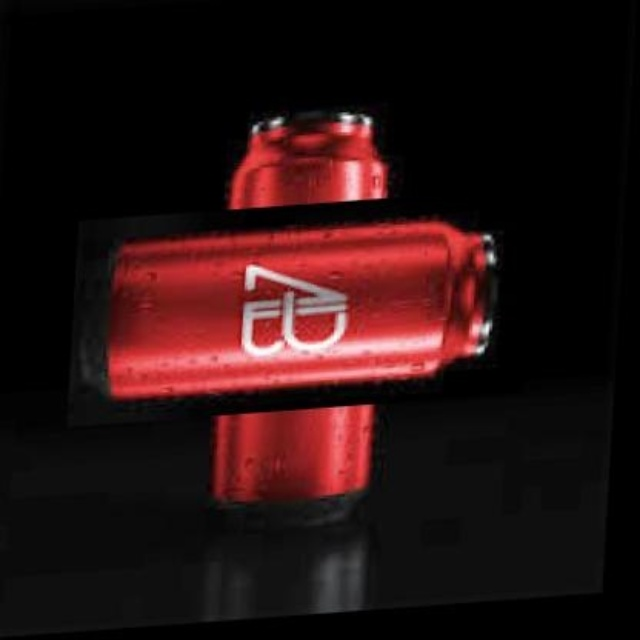trash: (71, 111, 495, 508), (212, 405, 374, 503), (228, 111, 388, 208)
